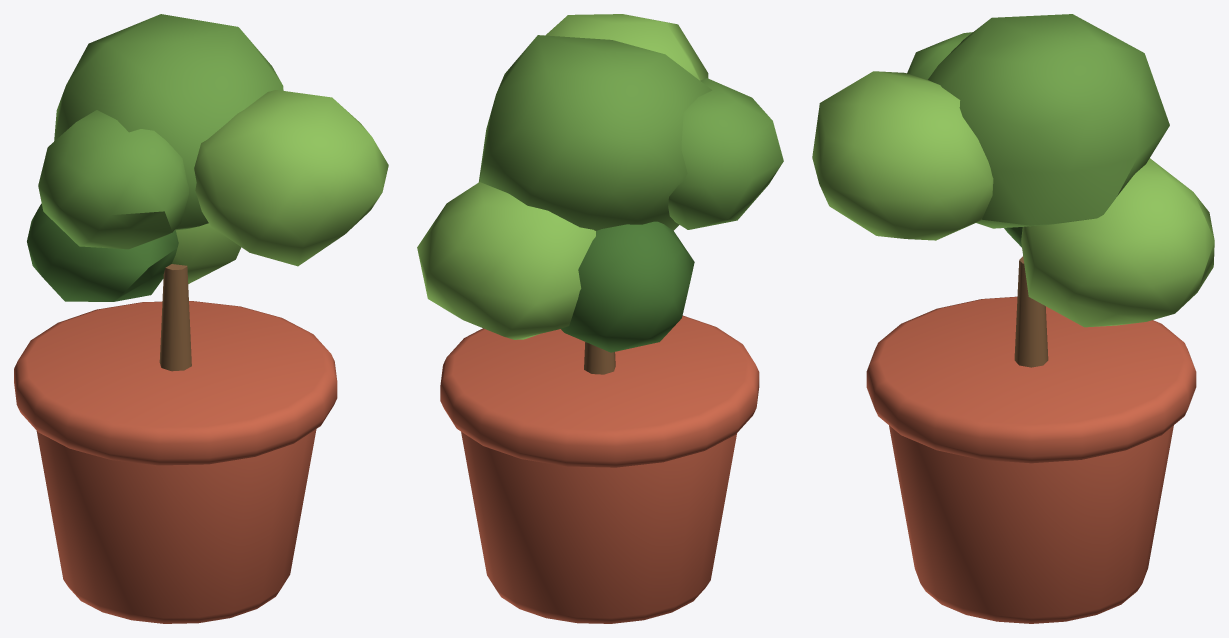
The model's file is plant_small.glb.
The picture shows the model from 3 angles, left to right: view 1: azimuth 30°, elevation 25°; view 2: azimuth 150°, elevation 25°; view 3: azimuth 270°, elevation 25°; orthographic projection. The views are drawn at different scales.
Parts seen in each view (by area): view 1: plant_small; view 2: plant_small; view 3: plant_small.
Part boxes in pixels (x1,y1,x2,y2): plant_small: (14, 14, 388, 623); plant_small: (417, 14, 783, 623); plant_small: (812, 14, 1214, 623).
Bounding box in the file's own units: 0.3809 × 0.6719 × 0.4482.
1 material, 1 textured.
